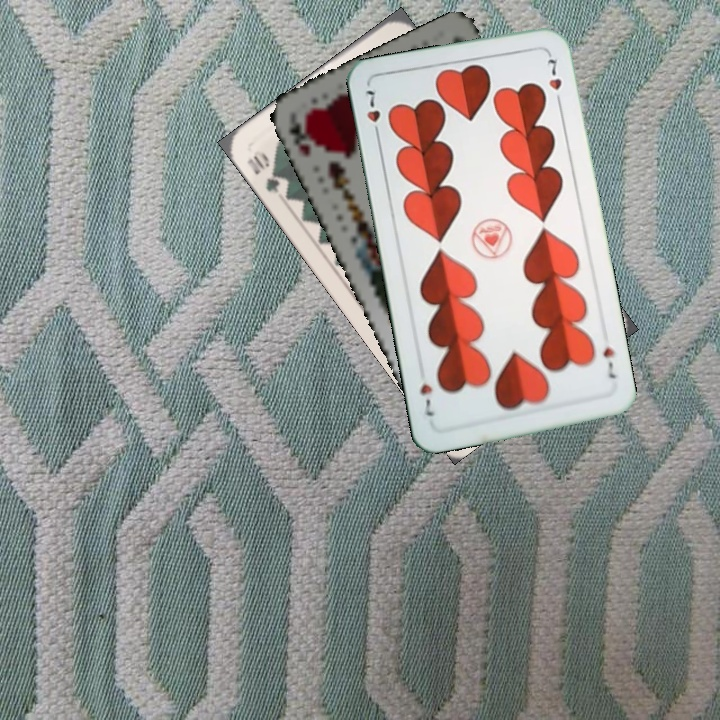G10: (242, 146, 287, 196)
H7: (361, 86, 383, 142), (599, 343, 619, 381)
HK: (284, 111, 314, 159)
